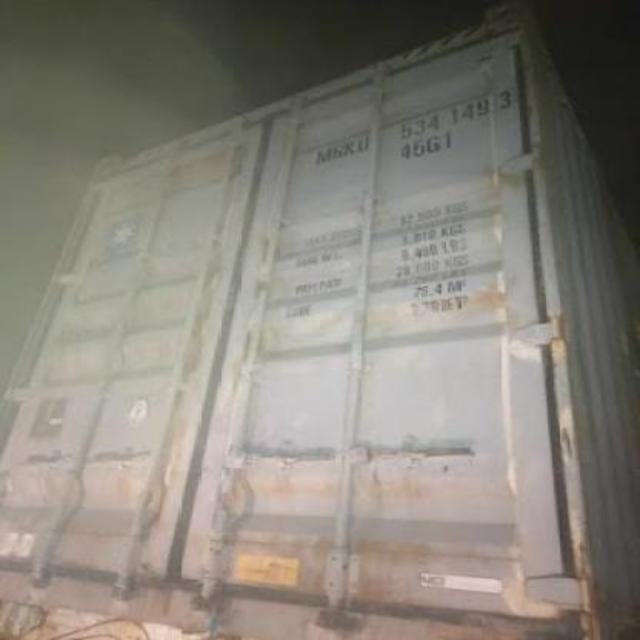1: (448, 106, 462, 124)
3: (496, 90, 516, 114), (414, 117, 428, 135)
4: (462, 102, 476, 122), (428, 114, 440, 132)
5: (396, 122, 416, 140)
9: (476, 97, 494, 117)
K: (344, 142, 356, 154)
M: (310, 149, 334, 167)
R: (332, 146, 346, 158)
U: (356, 137, 372, 153)
